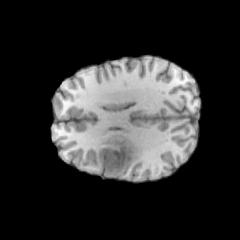glioma: (93, 134, 140, 178)
